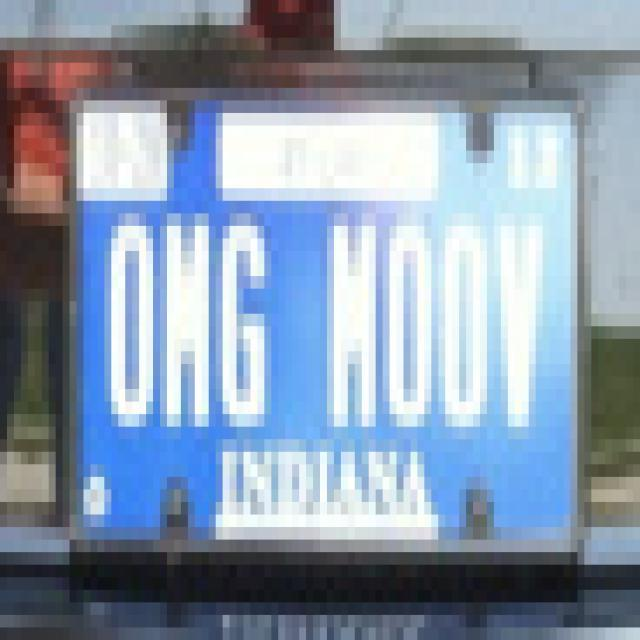0: (102, 198, 160, 438), (380, 204, 438, 436), (434, 208, 490, 430)
G: (216, 205, 282, 448)
M: (162, 198, 214, 462), (327, 206, 380, 442)
V: (489, 200, 551, 446)
